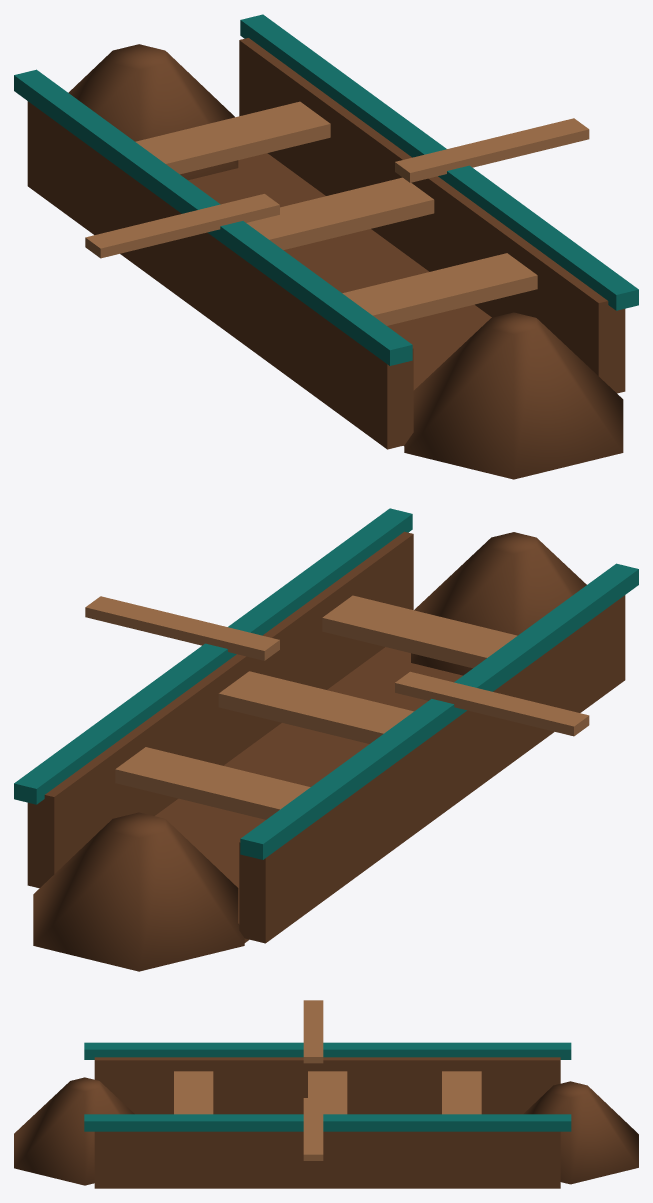
The model's file is prop_02_tuyen_lam_wooden_boat.glb.
3 renders of one model, top to bottom at view 1: azimuth 30°, elevation 25°; view 2: azimuth 150°, elevation 25°; view 3: azimuth 270°, elevation 25°, orthographic. The views are drawn at different scales.
Visible parts, largest first — view 1: side_port, side_starboard, bow_cone, gunwale_l, keel_bottom, gunwale_r, stern_cone, row_seat_0.95, row_seat_-0.95, row_seat_0.0, oar_right, oar_left; view 2: side_port, side_starboard, stern_cone, gunwale_l, keel_bottom, gunwale_r, bow_cone, row_seat_0.0, row_seat_-0.95, row_seat_0.95, oar_left, oar_right; view 3: side_starboard, side_port, gunwale_r, gunwale_l, bow_cone, stern_cone, row_seat_-0.95, row_seat_0.95, row_seat_0.0, oar_left, oar_right.
Part boxes in pixels (x1,y1,x2,y2): side_port: (27,101,413,449); side_starboard: (239,38,625,393); bow_cone: (404,312,623,479); gunwale_l: (14,69,412,365); keel_bottom: (188,153,491,445); gunwale_r: (240,14,638,310); stern_cone: (68,44,238,180); row_seat_0.95: (342,253,537,325); row_seat_-0.95: (135,101,330,174); row_seat_0.0: (246,177,434,249); oar_right: (395,118,589,182); oar_left: (85,194,279,258); side_port: (239,595,625,943); side_starboard: (27,531,413,888); stern_cone: (33,812,244,971); gunwale_l: (240,563,638,859); keel_bottom: (155,647,462,942); gunwale_r: (14,508,412,804); bow_cone: (411,532,586,675); row_seat_0.0: (218,671,413,743); row_seat_-0.95: (115,747,310,819); row_seat_0.95: (322,595,517,668); oar_left: (395,671,589,736); oar_right: (85,596,279,660); side_starboard: (94,1131,560,1188); side_port: (94,1057,560,1114); gunwale_r: (84,1114,571,1131); gunwale_l: (84,1042,571,1059); bow_cone: (14,1077,134,1185); stern_cone: (523,1081,638,1184); row_seat_-0.95: (442,1071,481,1114); row_seat_0.95: (174,1071,213,1114); row_seat_0.0: (308,1071,347,1114); oar_left: (303,1000,323,1063); oar_right: (303,1098,323,1160).
Size of the model in its own units: 2.59 by 0.655 by 4.43.
